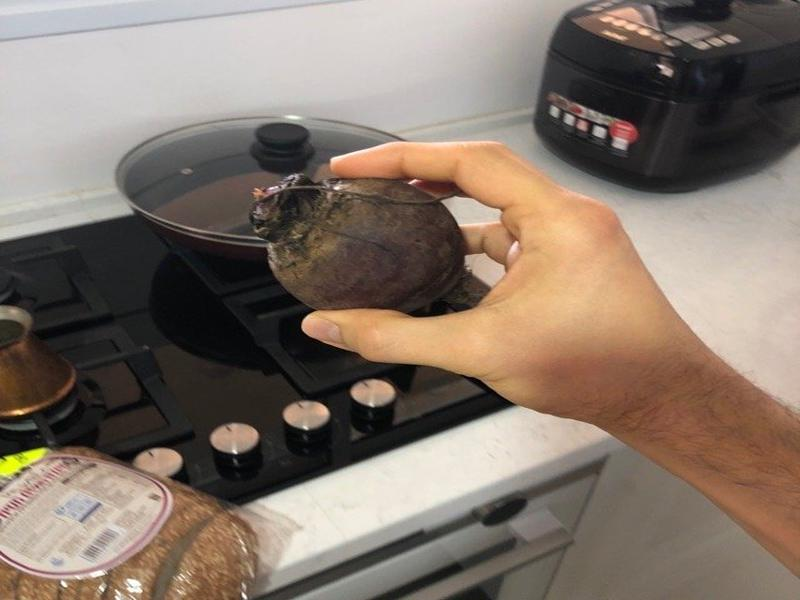Beet: (249, 176, 478, 311)
